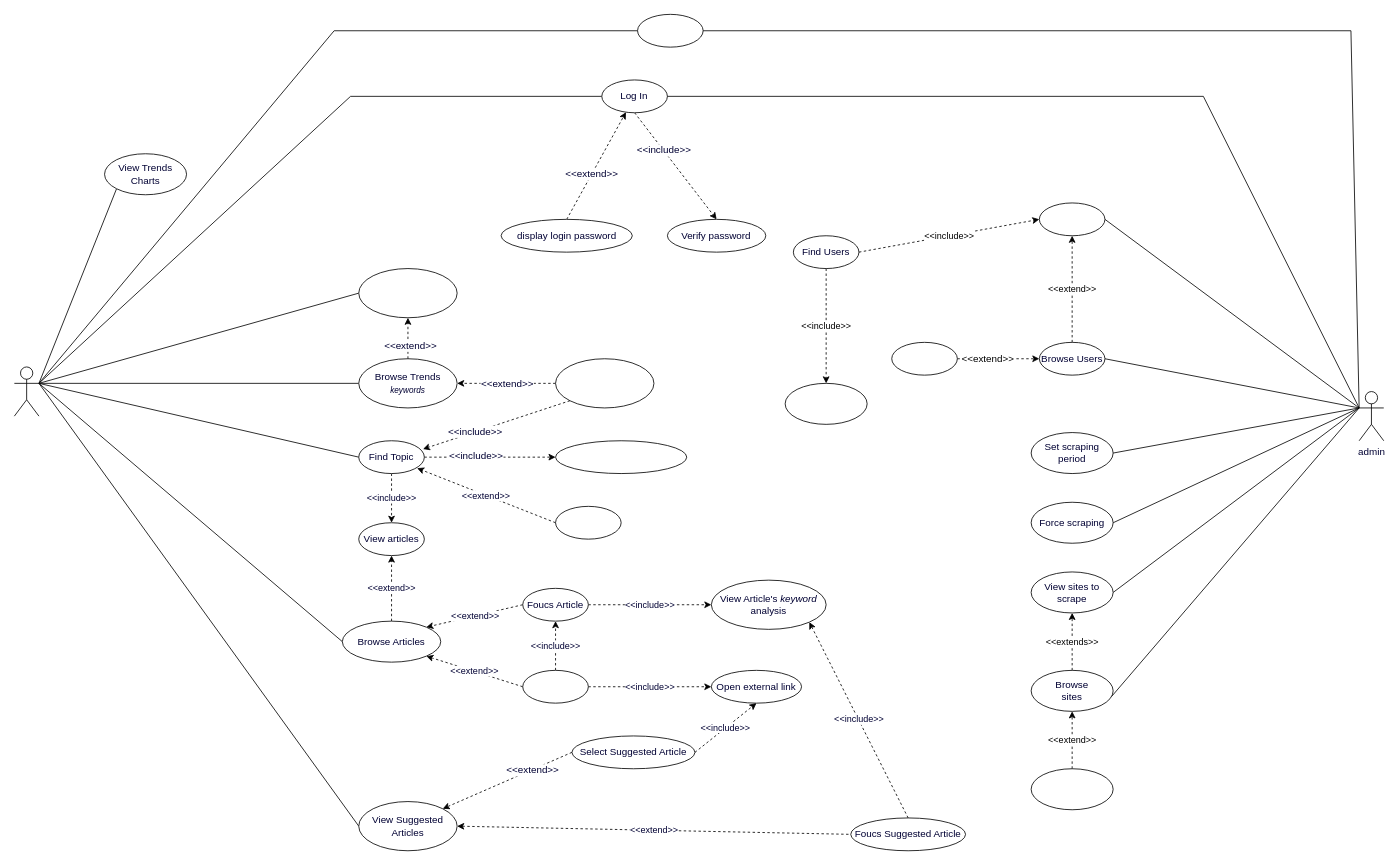
Some shapes in this 1399 by 865 pixel diagram are drawn without their labels. Here are the shapes that lost their labels. From the top down, the centre of each, then its label:
At point 670,30: "Sign In".
At point 1072,219: "View Users".
At point 407,293: "View Trending keywords".
At point 924,358: "Delete Users".
At point 26,391: "user".
At point 604,383: "Select Trend keyword".
At point 825,403: "Set parameter username".
At point 621,457: "set parameter keyword".
At point 588,522: "Set filters".
At point 555,686: "Select Article".
At point 1071,789: "Select sites to scrape".
